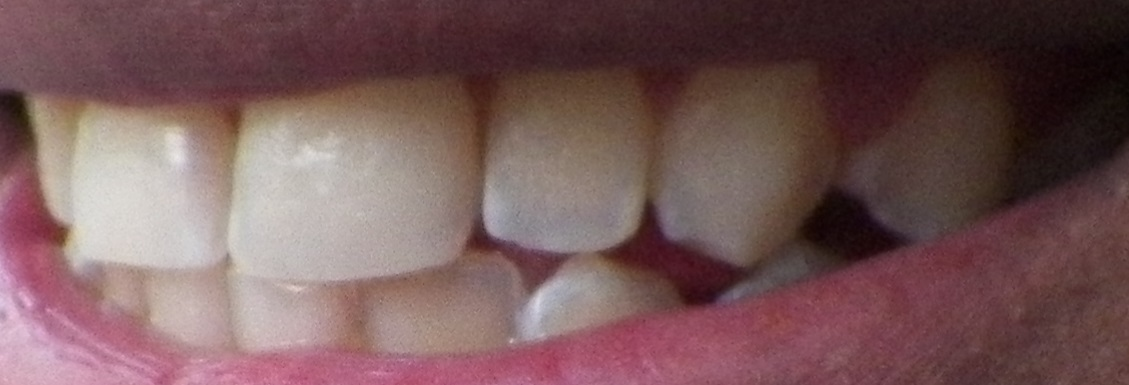boca: (19, 48, 1019, 355)
